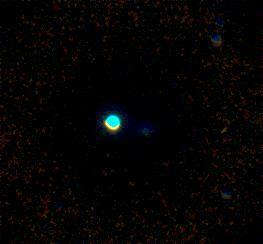star: (210, 116, 240, 146)
